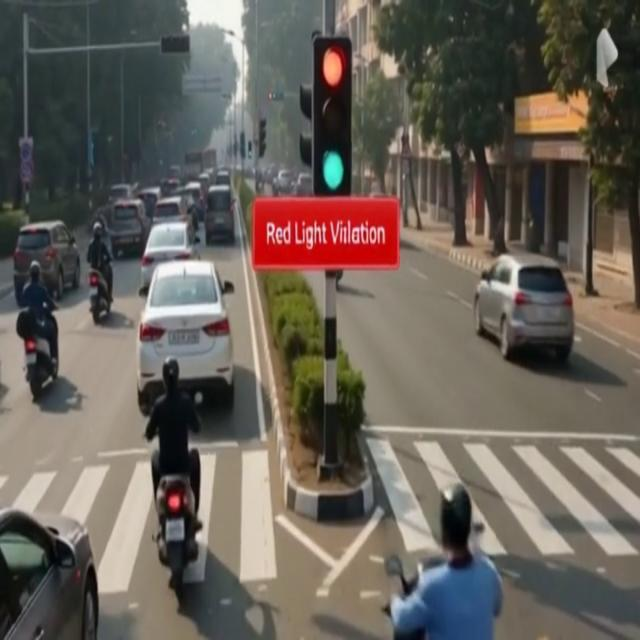car: (136, 260, 234, 415), (0, 508, 98, 639), (473, 255, 574, 362), (13, 221, 80, 301), (141, 222, 199, 286), (110, 200, 149, 255), (204, 185, 236, 245), (176, 182, 203, 230), (153, 195, 190, 224), (138, 187, 161, 222), (272, 170, 295, 196), (294, 173, 312, 197), (109, 184, 132, 202), (161, 178, 181, 198), (213, 169, 231, 187), (198, 172, 211, 193)
scooty: (154, 475, 201, 602), (17, 310, 58, 399), (384, 555, 445, 598), (89, 270, 110, 324)
traffic signal: (312, 36, 352, 196), (160, 33, 189, 54), (300, 85, 312, 131), (258, 119, 266, 158), (88, 130, 95, 167), (268, 91, 284, 101), (240, 132, 245, 159), (232, 136, 238, 158), (247, 141, 252, 159)
truck: (184, 152, 203, 182), (202, 146, 218, 172)
